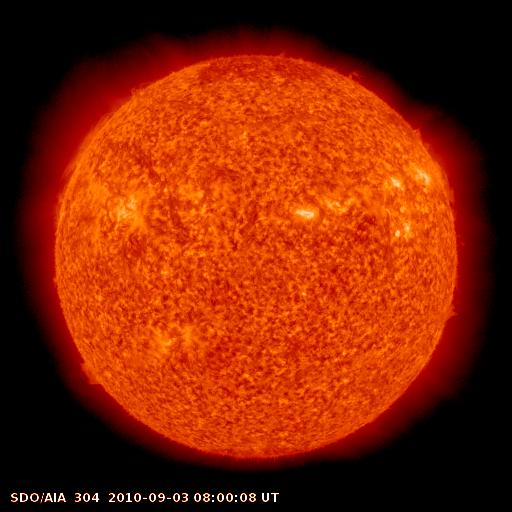prominence: (53, 100, 121, 219), (428, 152, 464, 209), (73, 354, 111, 392), (339, 58, 371, 94)
